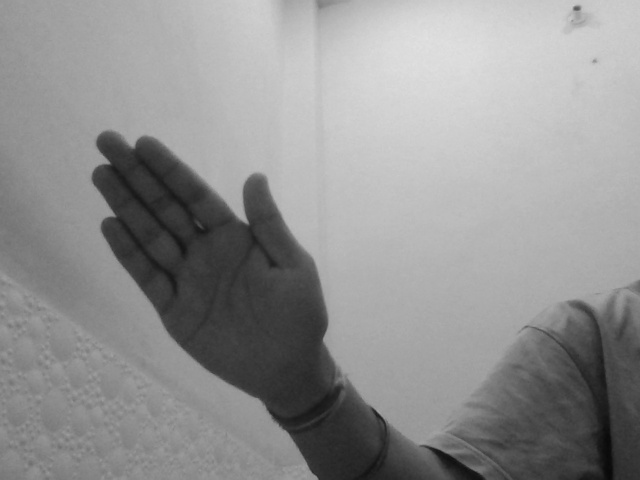Hello: (88, 127, 329, 401)
